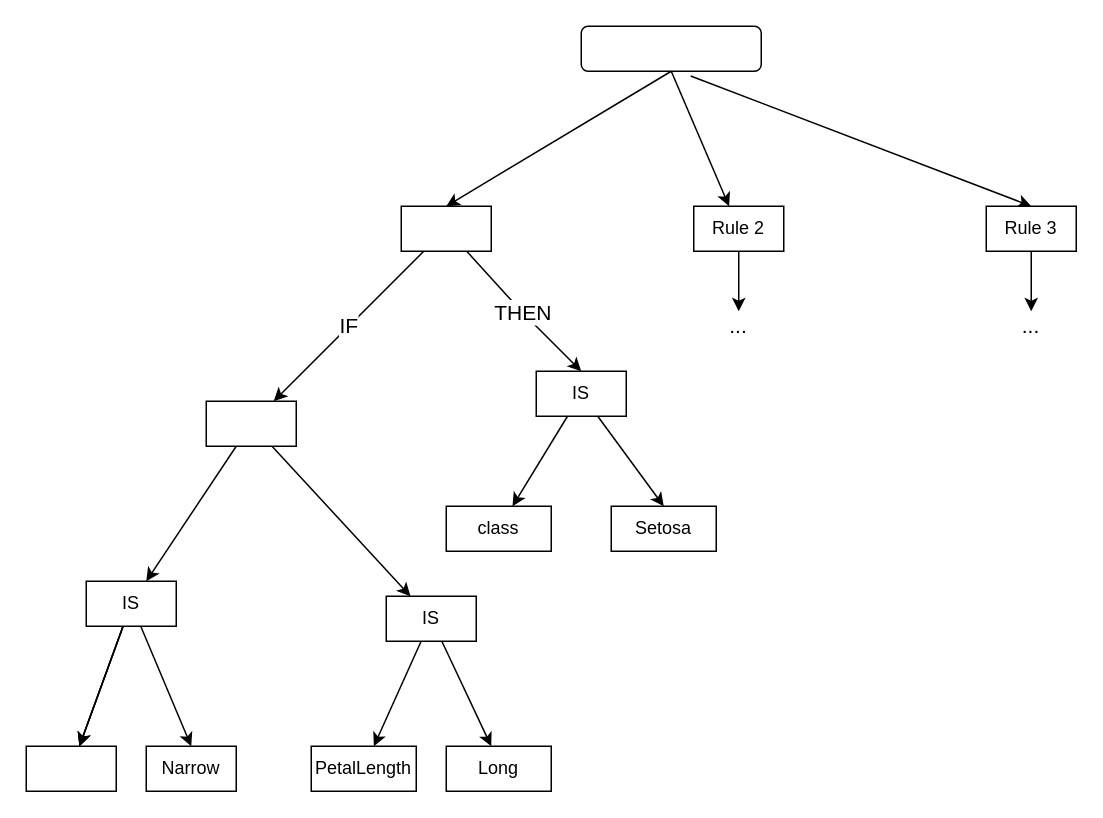
Image size: 1103x818. Some labels were removed from this diagram. The shapes that lost their labels are listed below. From the top down, each one's box as (x1, y1, x2, y2) in pixels, then its label:
(580, 25, 761, 71): Chromosome
(400, 205, 491, 251): Rule 1
(205, 400, 296, 446): AND
(25, 745, 116, 791): PetalWidth
